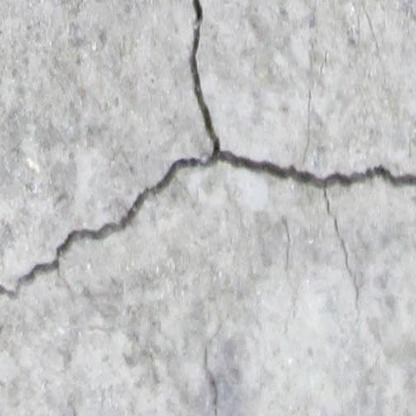Cracks: (0, 0, 416, 306), (202, 347, 227, 416)
